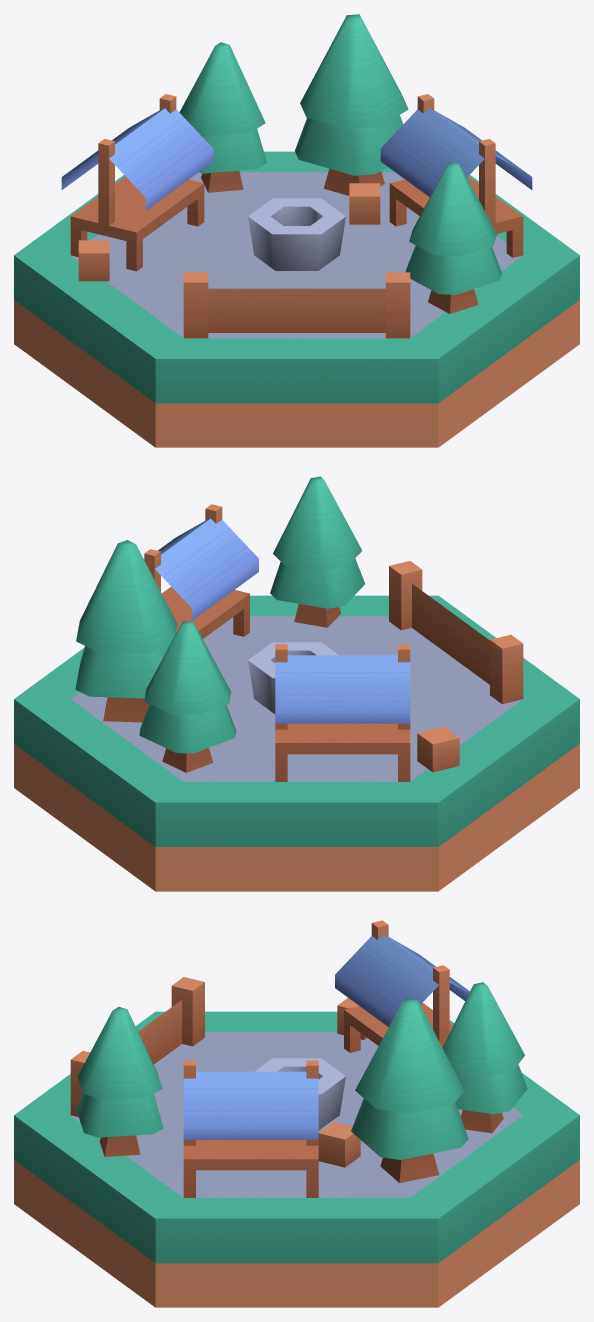
The model's file is building-market.glb.
3 views of the same model, one above another, from view 1: azimuth 30°, elevation 25°; view 2: azimuth 150°, elevation 25°; view 3: azimuth 270°, elevation 25° (orthographic).
Visible parts, largest first — view 1: building-market; view 2: building-market; view 3: building-market.
Part boxes in pixels (bbox=[...]): building-market: bbox=[14, 14, 579, 447]; building-market: bbox=[14, 476, 579, 891]; building-market: bbox=[14, 920, 579, 1307].
Size of the model in its own units: 1 by 0.58 by 1.15.
1 material, 1 textured.
